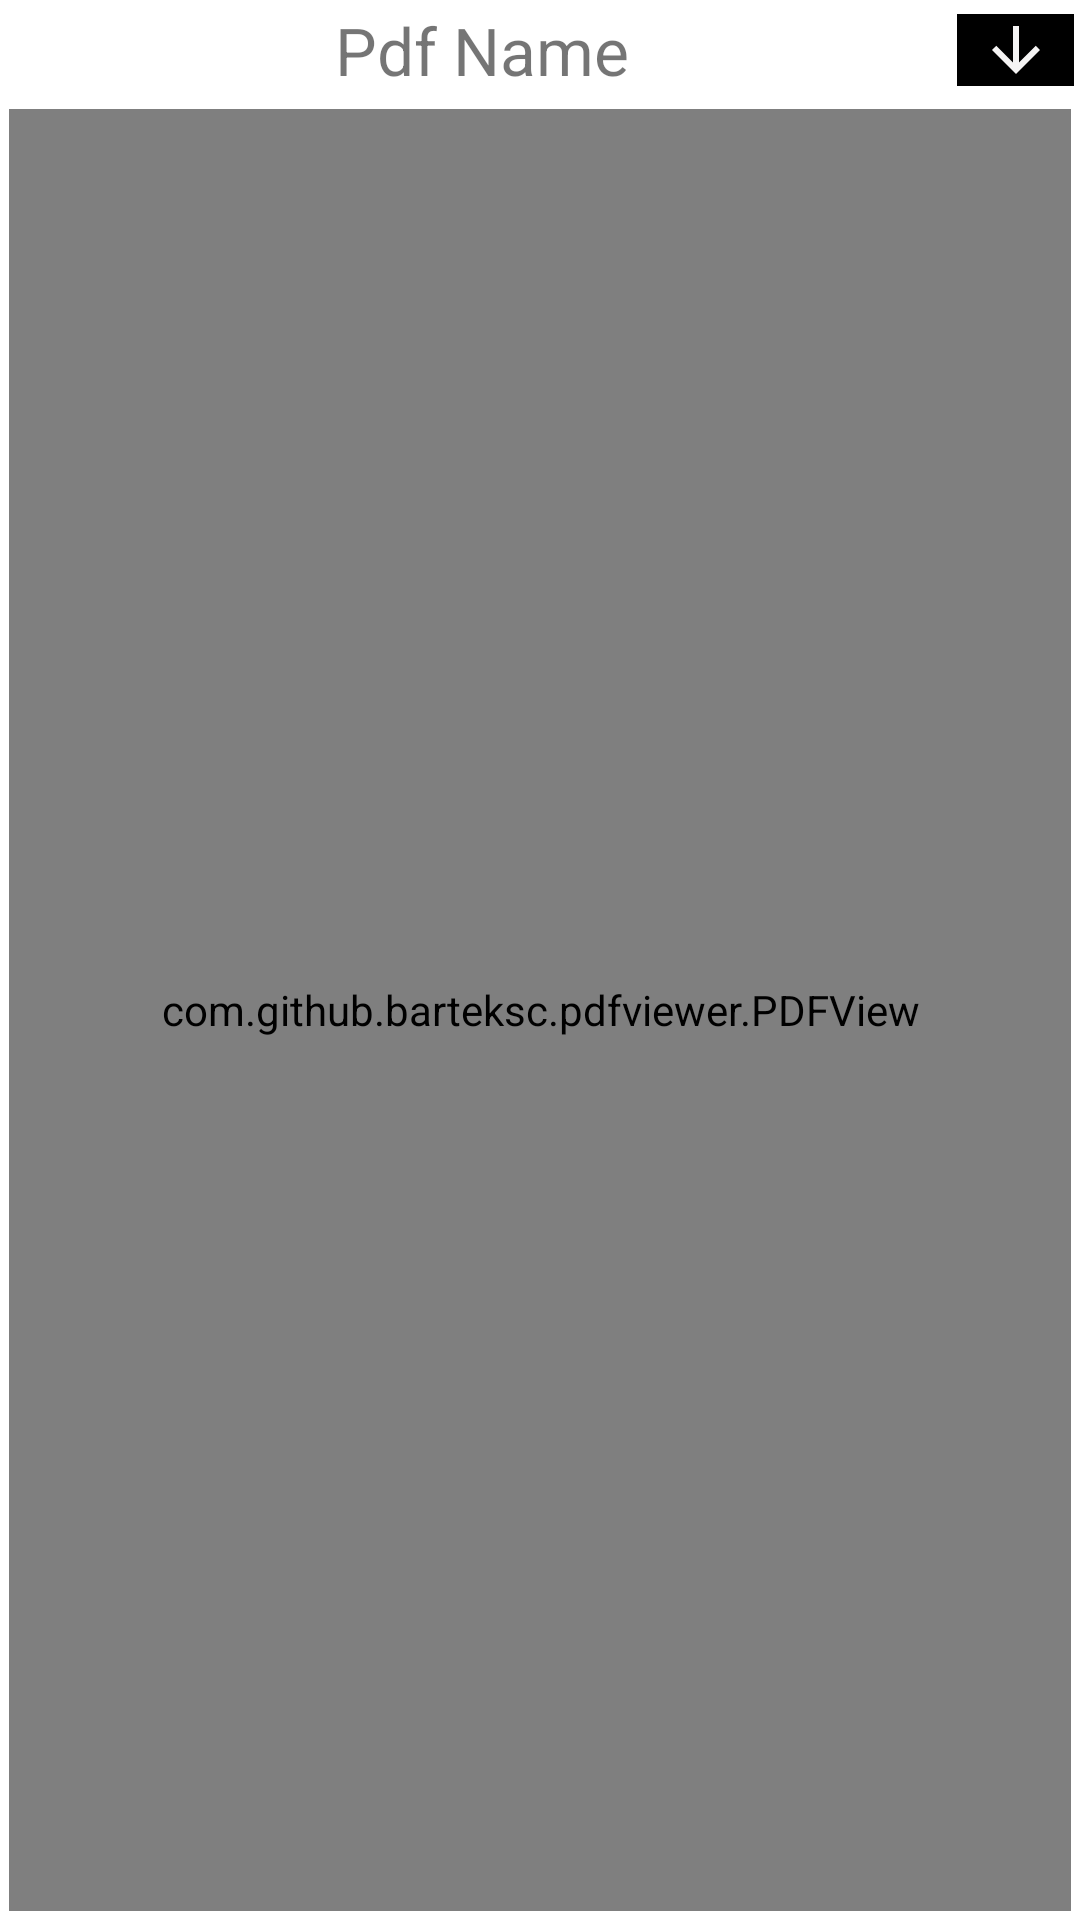

Where icons sit on this 1080*1920 app screen, as [x1, y1, x2, y2]:
download: [957, 14, 1074, 86]
